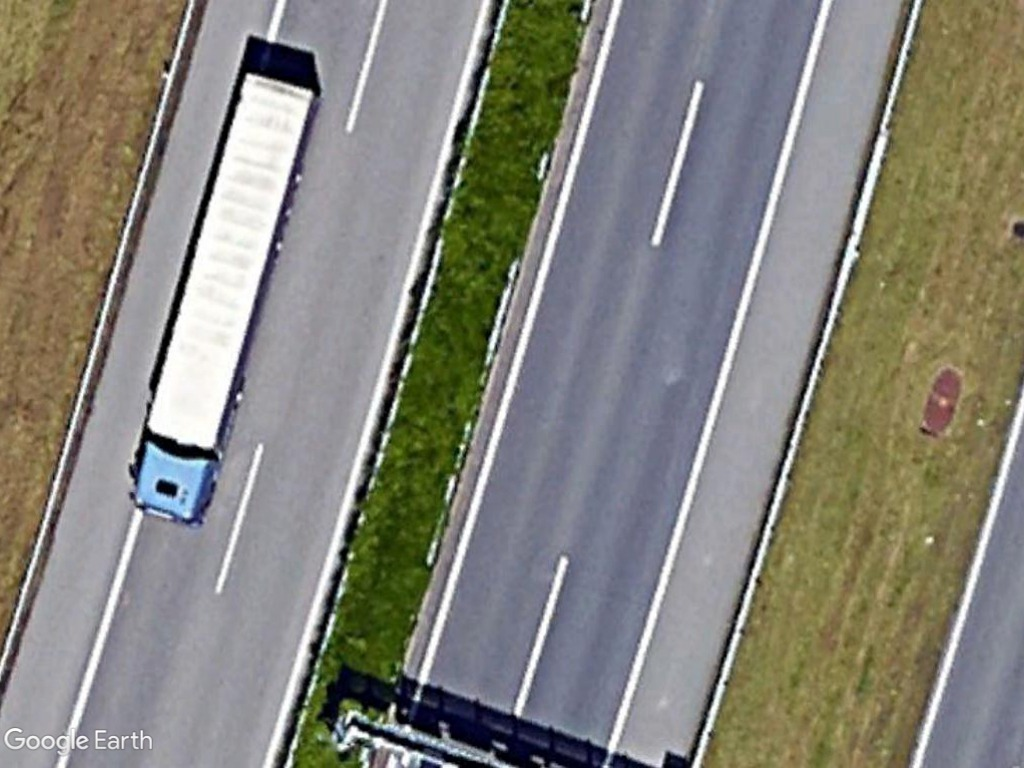longvehicle: (120, 57, 318, 533)
